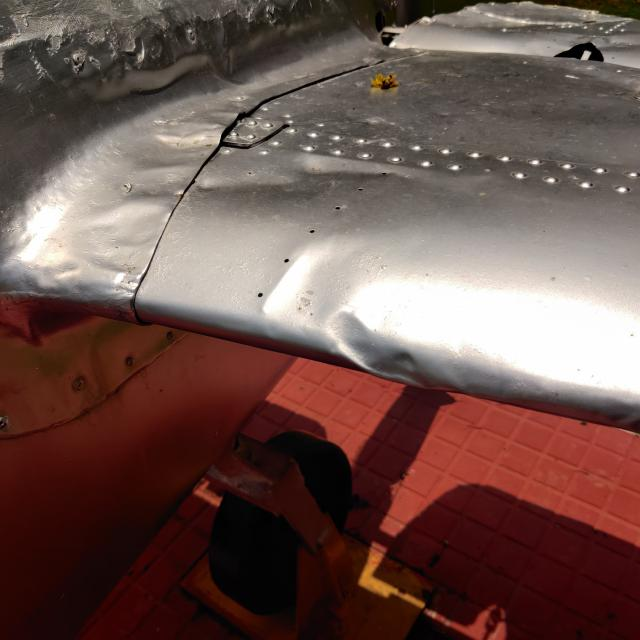dent: (319, 286, 479, 409), (235, 144, 406, 214)
